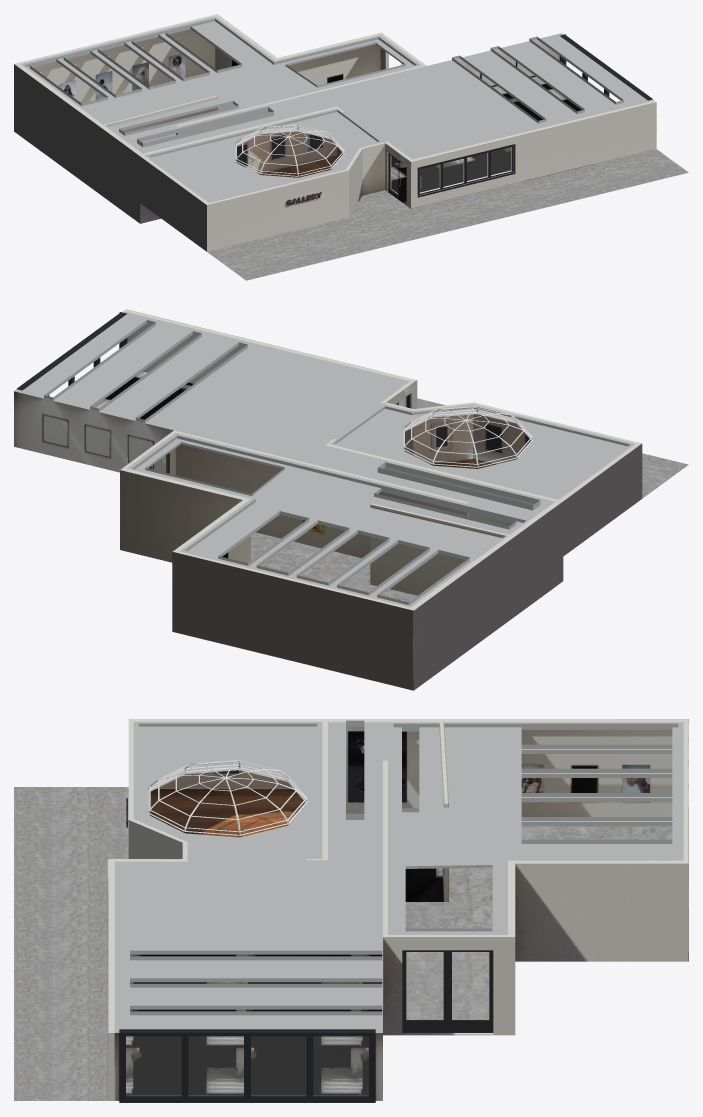
File: art-gallery.glb
3 views of the same model, one above another, from view 1: azimuth 30°, elevation 25°; view 2: azimuth 150°, elevation 25°; view 3: azimuth 270°, elevation 25° (orthographic). The views are drawn at different scales.
Parts seen in each view (by area): view 1: Teto, Paredes, Chao_fora, Janelas_entrada, Chao_entrada, Todos os quadros, Sphere.001, Chao_madeira, Janelas, Porta_entrada; view 2: Paredes, Teto, Chao_inferior, Sphere.001, Chao_fora, Todos os quadros, Janelas, Chao_entrada; view 3: Teto, Paredes, Chao_fora, Janelas, Chao_entrada, Chao_inferior, Janelas_andar_inferior, Chao_madeira, Sphere.001, Todos os quadros.
Part boxes in pixels (x1,y1,x2,y2): Teto: (21,16,653,202); Paredes: (14,14,656,251); Chao_fora: (207,149,688,280); Janelas_entrada: (417,144,515,197); Chao_entrada: (338,84,581,205); Todos os quadros: (59,54,390,202); Sphere.001: (235,124,345,176); Chao_madeira: (259,155,339,177); Janelas: (559,34,652,100); Porta_entrada: (390,155,421,198); Paredes: (14,309,642,690); Teto: (14,311,635,607); Chao_inferior: (251,532,417,602); Sphere.001: (402,406,533,467); Chao_fora: (396,398,688,498); Todos os quadros: (302,394,530,534); Janelas: (17,312,127,396); Chao_entrada: (93,371,193,419); Teto: (114,720,683,1032); Paredes: (107,719,688,1100); Chao_fora: (14,787,128,1100); Janelas: (119,1029,375,1102); Chao_entrada: (126,868,443,1094); Chao_inferior: (405,826,672,1019); Janelas_andar_inferior: (402,950,493,1032); Chao_madeira: (149,789,304,837); Sphere.001: (148,760,308,835); Todos os quadros: (126,731,649,818).
Bounding box in the file's own units: 62.24 × 11.18 × 56.35.
Materials: 28 (17 with a texture image).
